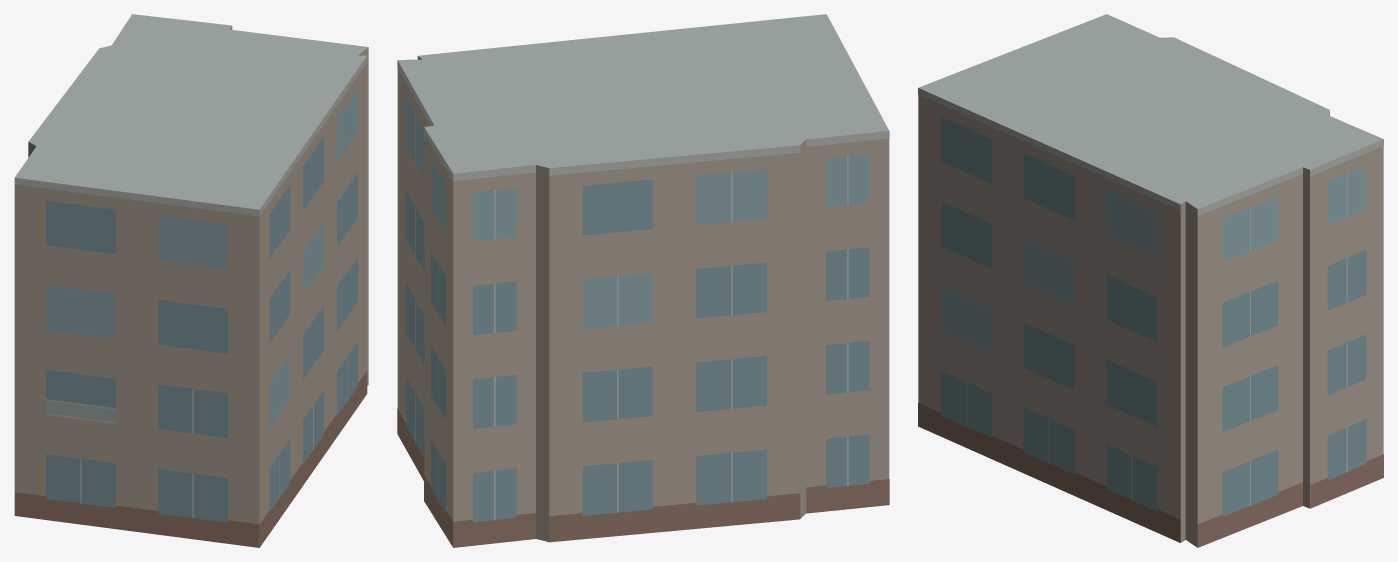
File: survey-upis-32673633.glb
3 views of the same model, side by side, from view 1: azimuth 30°, elevation 25°; view 2: azimuth 150°, elevation 25°; view 3: azimuth 270°, elevation 25° (orthographic). The views are drawn at different scales.
Visible parts, largest first — view 1: survey-upis-32673633.tmp; view 2: survey-upis-32673633.tmp; view 3: survey-upis-32673633.tmp.
Boxes of the visible parts, x1,y1,x2,y2 form: survey-upis-32673633.tmp: (14, 14, 368, 547); survey-upis-32673633.tmp: (397, 14, 889, 547); survey-upis-32673633.tmp: (918, 14, 1383, 547).
Bounding box in the file's own units: 15.09 × 12.2 × 15.21.
